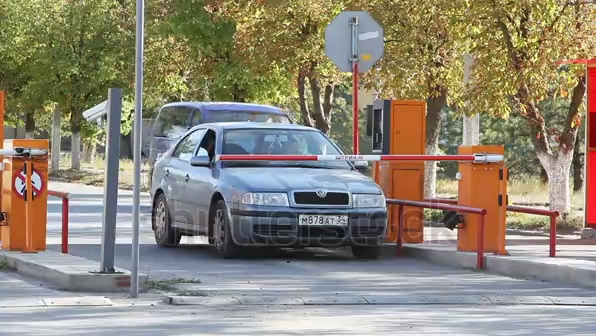licenseplate: (299, 214, 354, 231)
